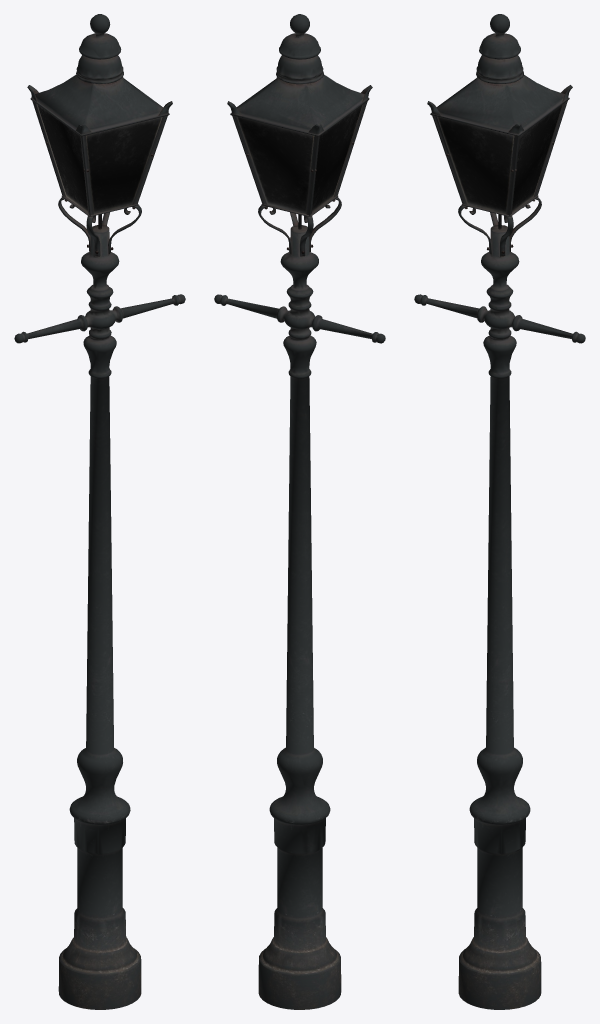
File: street_lamp_01_2k.gltf
3 renders of one model, left to right at view 1: azimuth 30°, elevation 25°; view 2: azimuth 150°, elevation 25°; view 3: azimuth 330°, elevation 25°, orthographic.
Parts seen in each view (by area): view 1: street_lamp_01; view 2: street_lamp_01; view 3: street_lamp_01.
Part boxes in pixels (box(x1,y1,x2,y2)): street_lamp_01: box(14, 14, 185, 1009); street_lamp_01: box(214, 14, 385, 1009); street_lamp_01: box(414, 14, 585, 1009).
Size of the model in its own units: 0.7034 by 3.87 by 0.3858.
3 materials, 3 textured.
